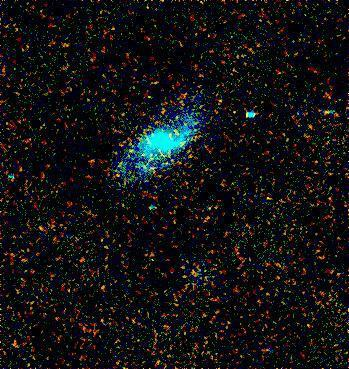star: (77, 146, 107, 176)
